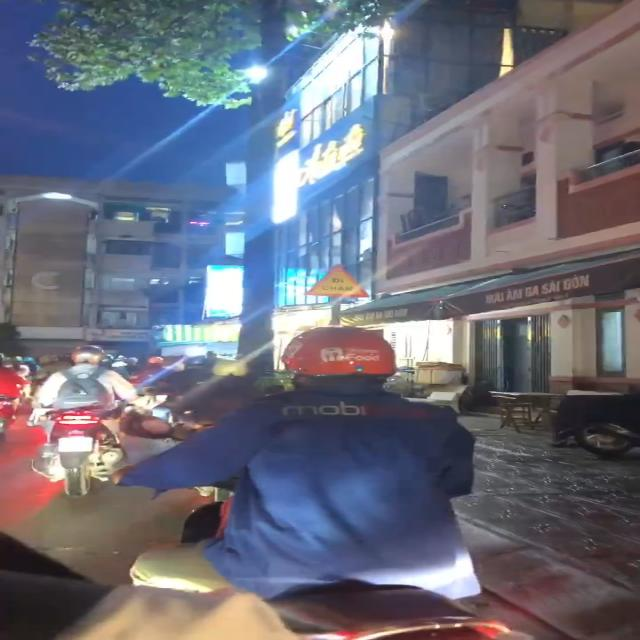Bien bao di cham: (292, 260, 384, 300)
